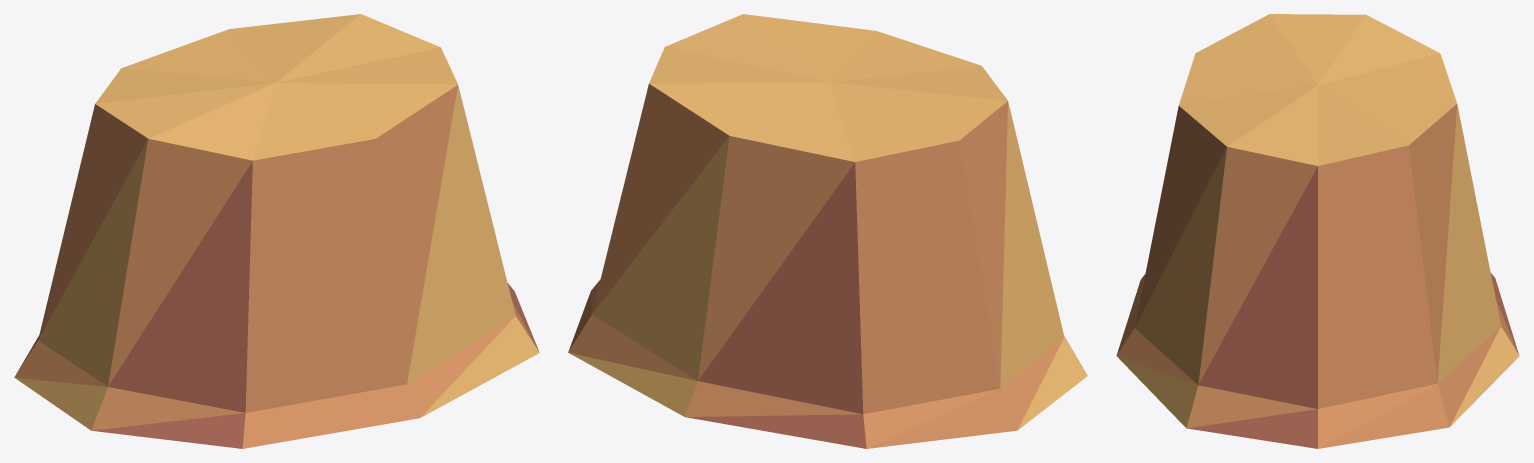
3 renders of one model, left to right at view 1: azimuth 30°, elevation 25°; view 2: azimuth 150°, elevation 25°; view 3: azimuth 270°, elevation 25°, orthographic. The views are drawn at different scales.
Visible parts, largest first — view 1: 错层台地_1.001; view 2: 错层台地_1.001; view 3: 错层台地_1.001.
Part boxes in pixels (x1,y1,x2,y2): 错层台地_1.001: [14, 14, 539, 448]; 错层台地_1.001: [568, 14, 1087, 448]; 错层台地_1.001: [1116, 14, 1519, 448].
Size of the model in its own units: 1.39 by 0.7698 by 1.1.
